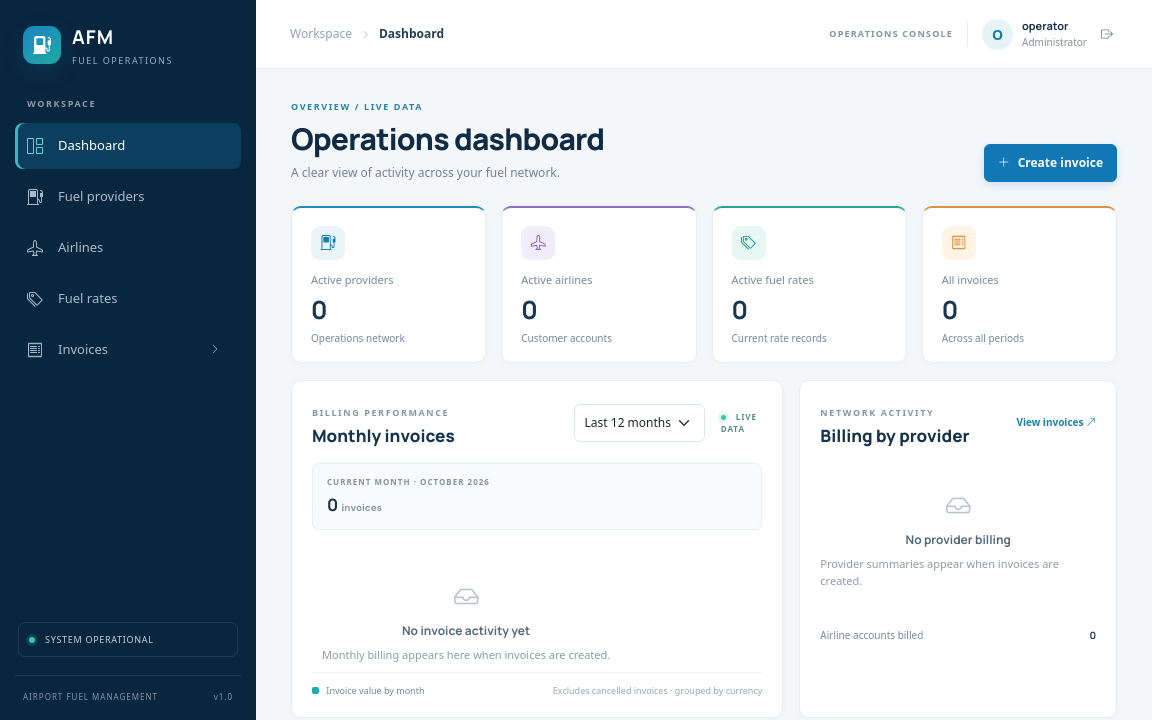
it: AFM authentication shell › creates a provider through the API and reloads the provider table
Click the link "Fuel providers" at x=86, y=196, box [27,184,144,208]
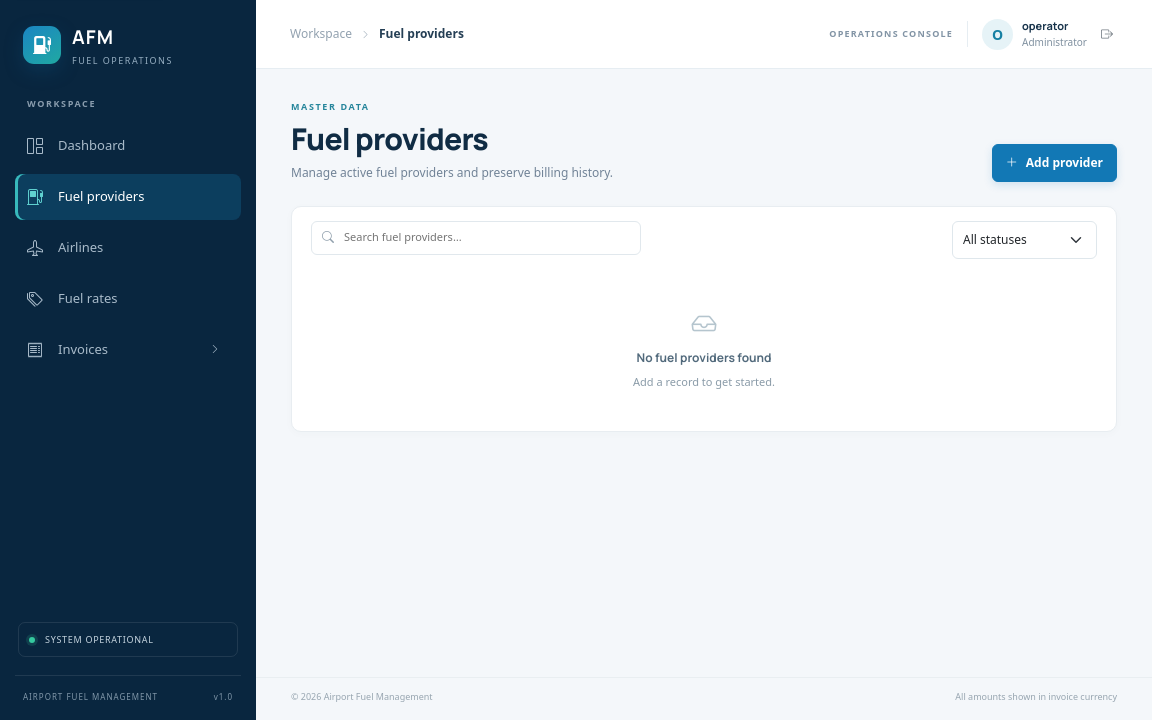
Click the button "Add provider" at x=1054, y=162, box [992,144,1117,182]
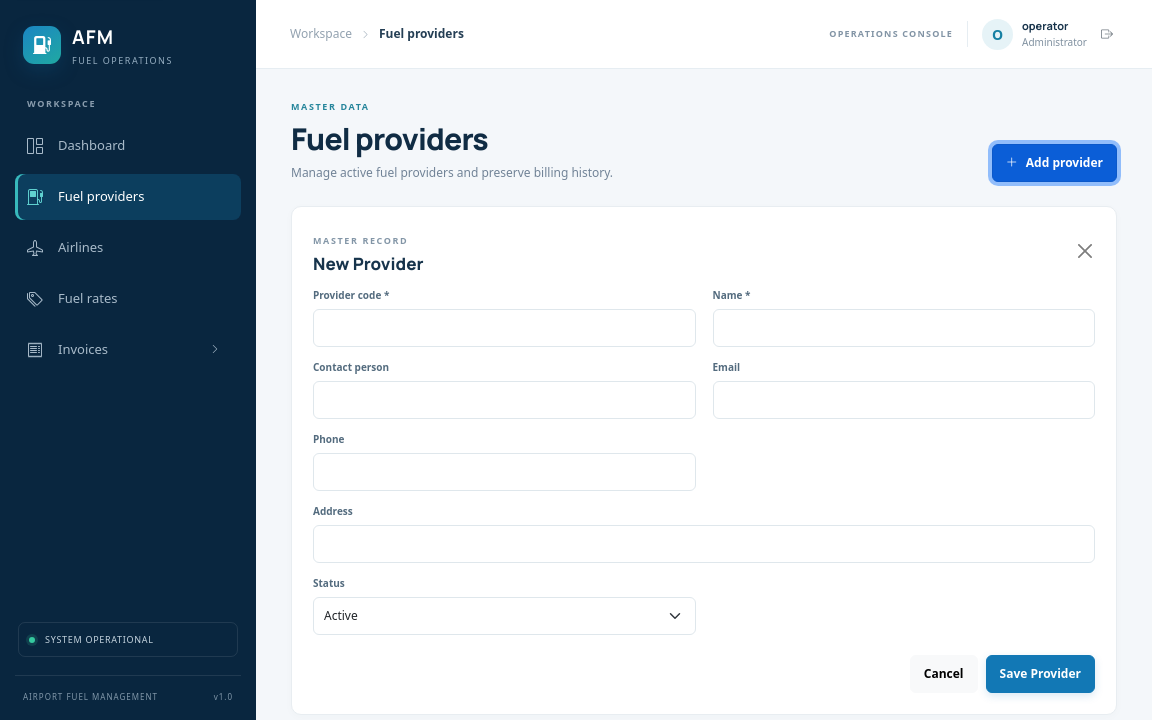
Type "DEMO-FUEL" into the field labelled "Provider code *" at x=504, y=328, box [313,309,696,347]
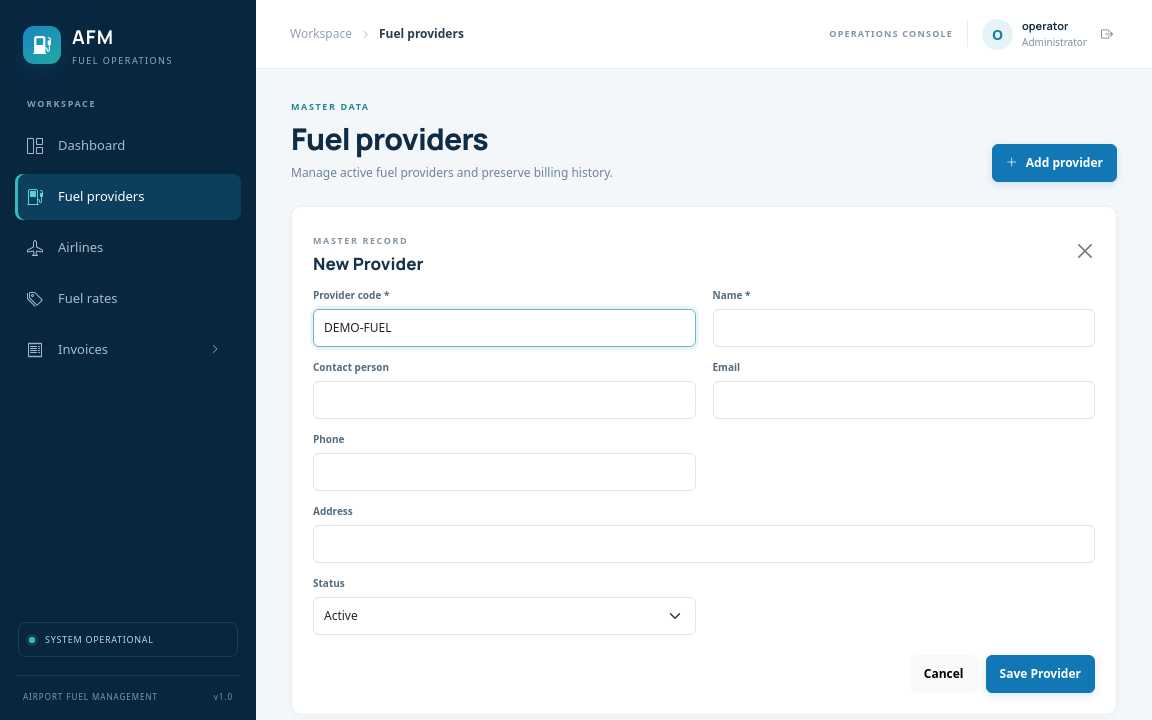
Type "Demo Fuel Co" into the field labelled "Name *" at x=904, y=328, box [712,309,1095,347]
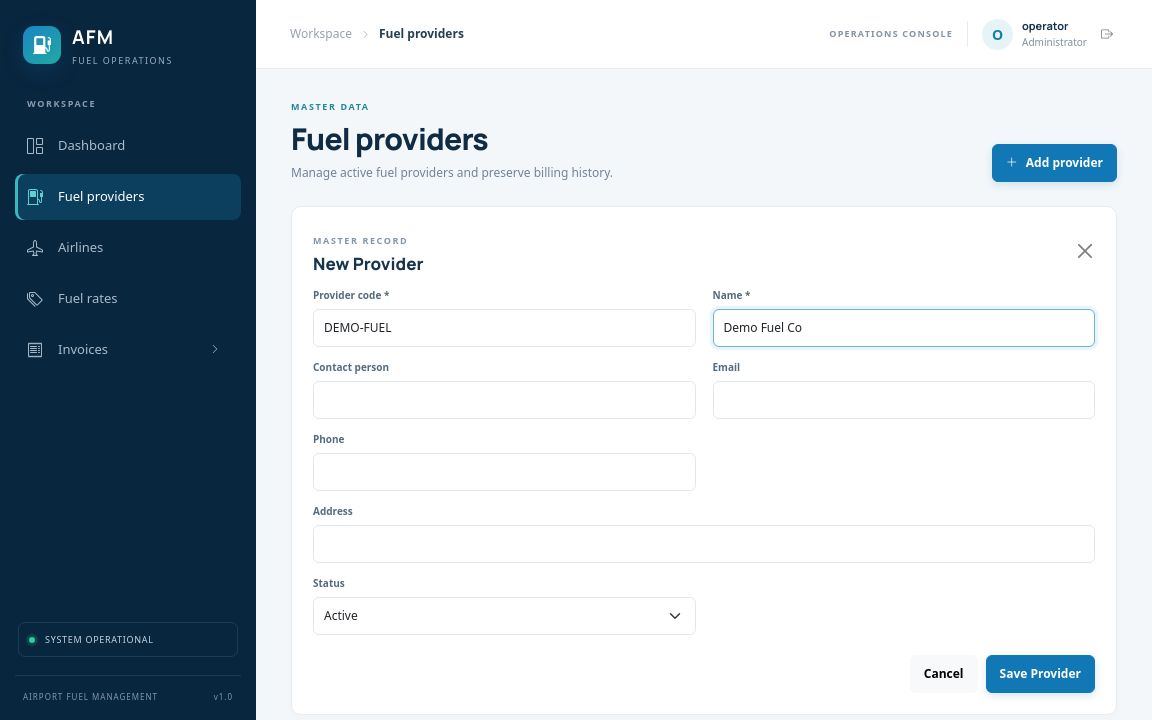
Click the button "Save Provider" at x=1040, y=674, box [986,655,1095,693]
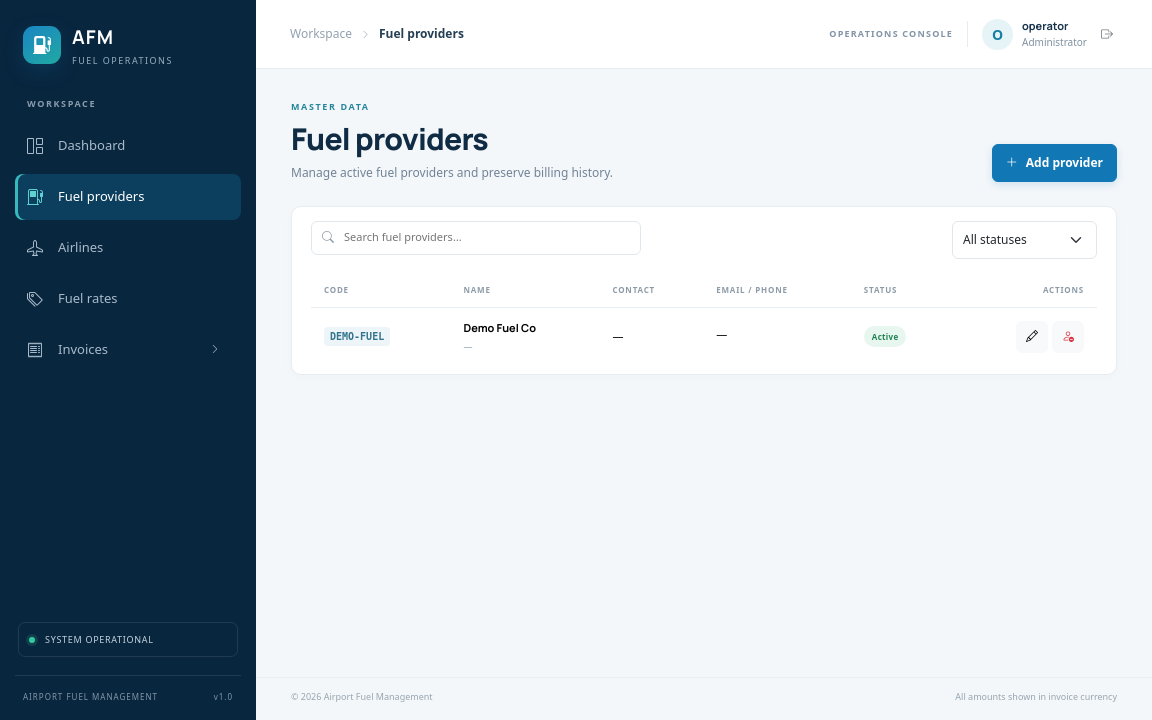
Now the text "Demo Fuel Co" is shown, box [464,320,536,334]
